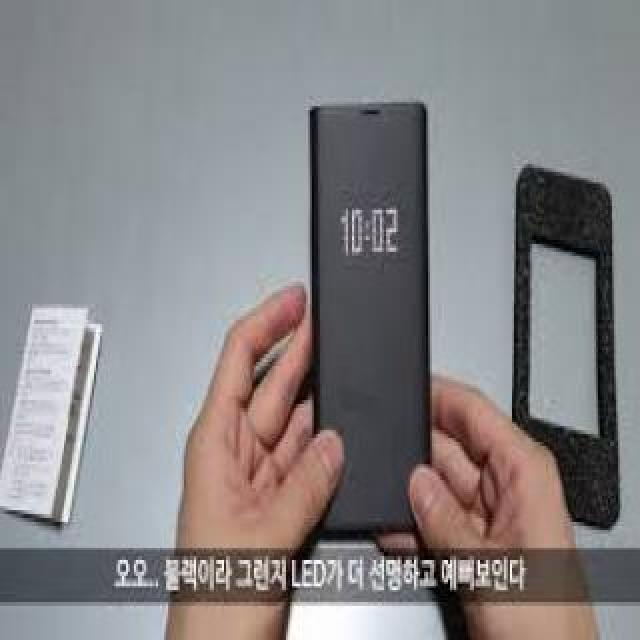smart phone: (297, 27, 455, 578)
